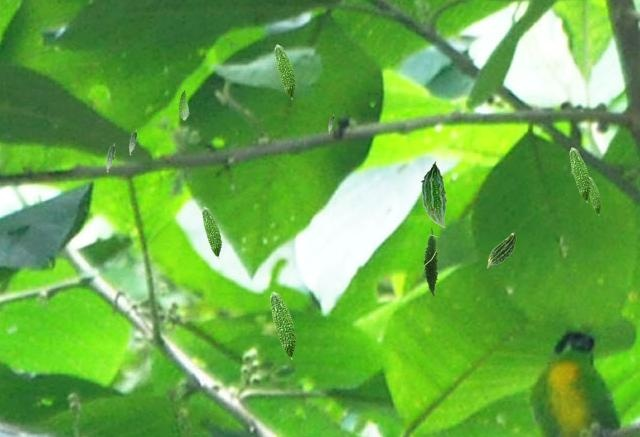ampalaya: (269, 291, 297, 360), (420, 160, 447, 228), (422, 226, 440, 297), (274, 44, 296, 100), (569, 147, 591, 203), (201, 206, 222, 259), (486, 232, 516, 268), (589, 177, 601, 216), (177, 89, 189, 121), (105, 143, 115, 172), (128, 129, 137, 155), (328, 114, 334, 133)
